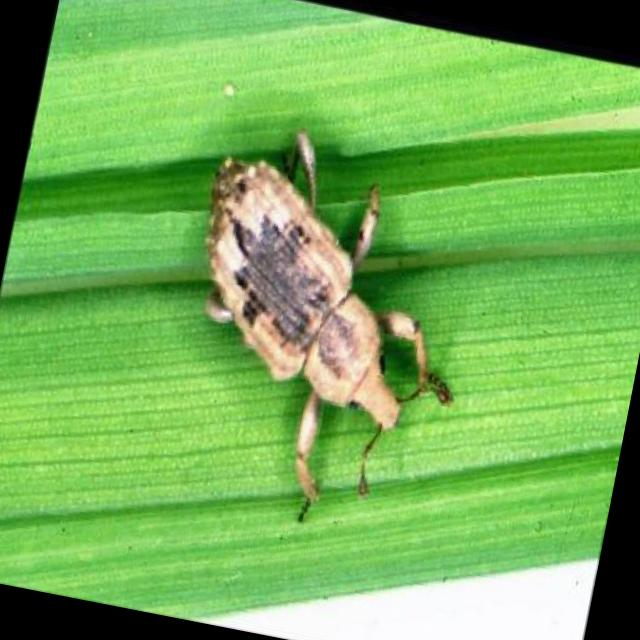rice-bug: (166, 118, 462, 470)
